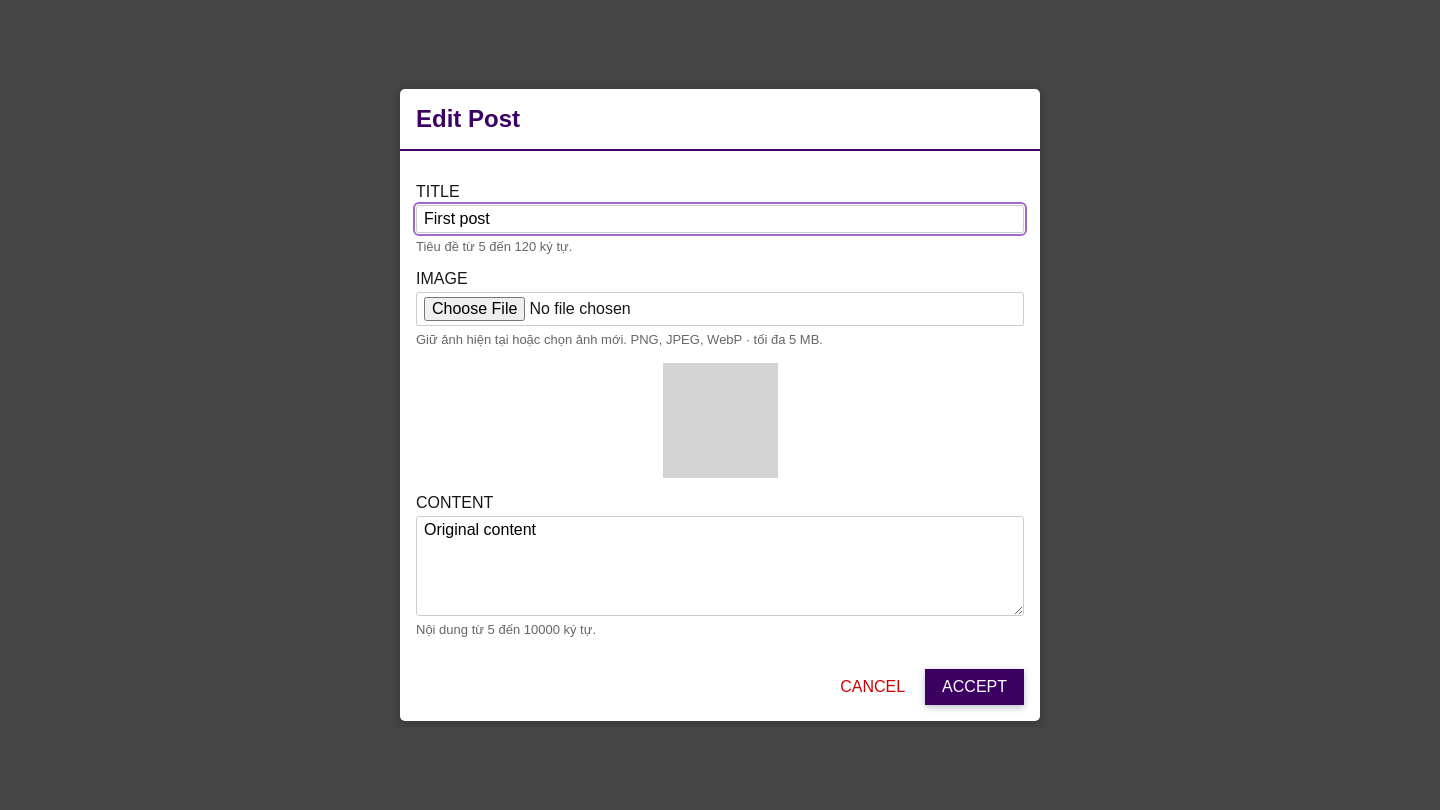
Edit điền sẵn giá trị, không bắt chọn lại ảnh và giữ form khi API lỗi
The width and height of the screenshot is (1440, 810).
Expected: the field labelled "TITLE" holds "First post", [416,205,1024,233]
Expected: the text box labelled "CONTENT" holds "Original content", [416,516,1024,616]
What coordinates should you click on to do the following:
click the button "ACCEPT"
I would click on:
 (975, 687)
Its box is [925,669,1024,705].
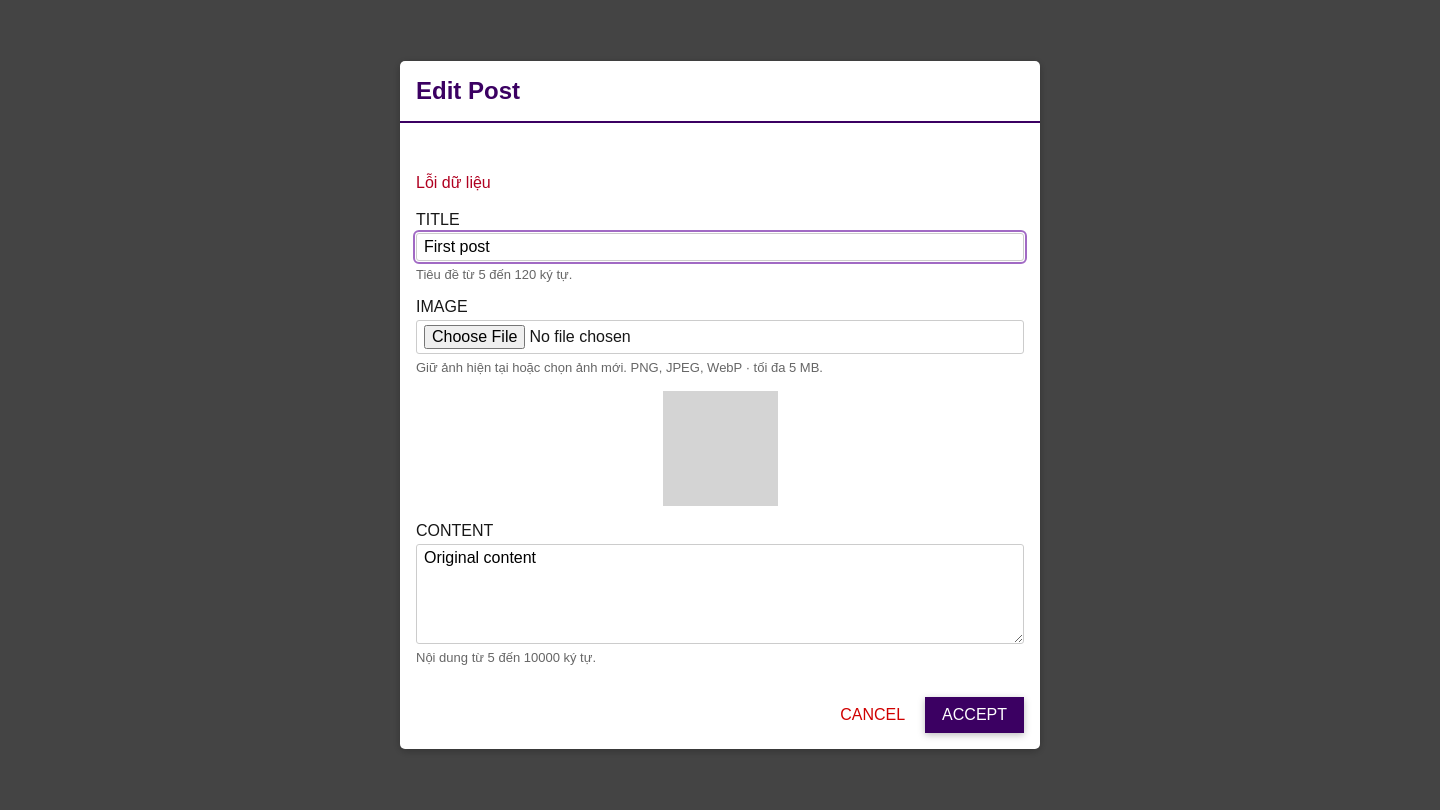
Now the message reads "Lỗi dữ liệu", box [416,174,491,191]
